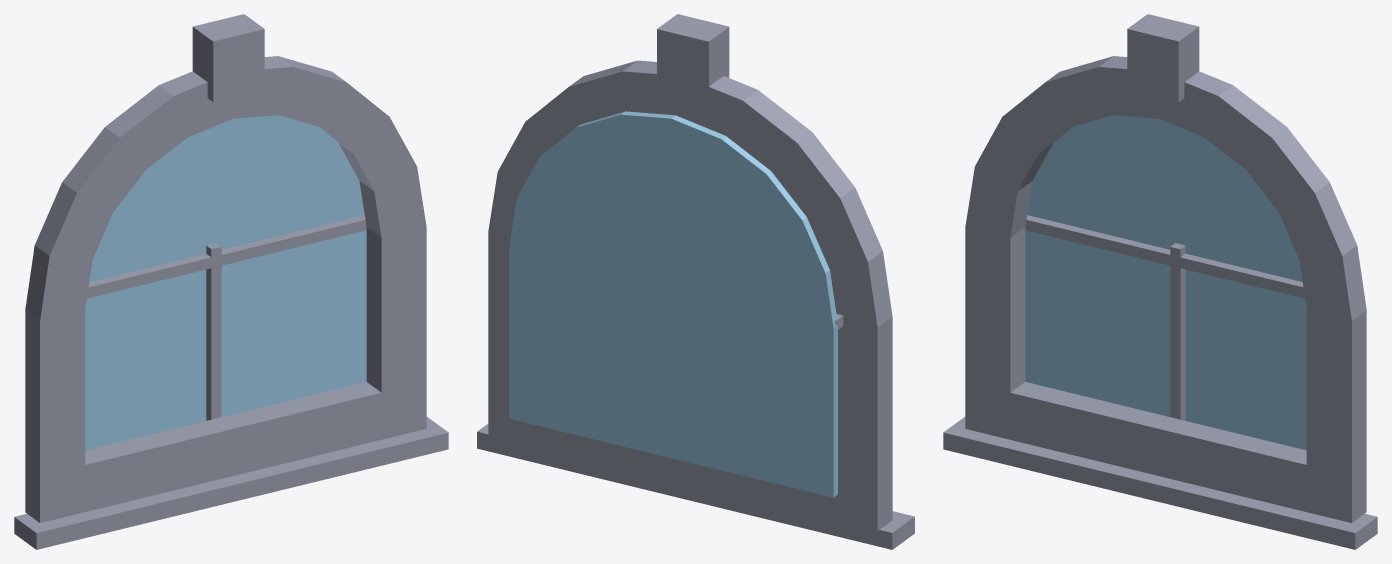
The model's file is window-arched.glb.
The picture shows the model from 3 angles, left to right: view 1: azimuth 30°, elevation 25°; view 2: azimuth 150°, elevation 25°; view 3: azimuth 330°, elevation 25°; orthographic projection.
Parts seen in each view (by area): view 1: window-arched; view 2: window-arched; view 3: window-arched.
Boxes of the visible parts, <box> form: window-arched: <box>14,14,448,549</box>; window-arched: <box>477,14,914,549</box>; window-arched: <box>943,14,1377,549</box>.
Size of the model in its own units: 0.64 by 0.685 by 0.096.
Materials: 1 (1 with a texture image).
